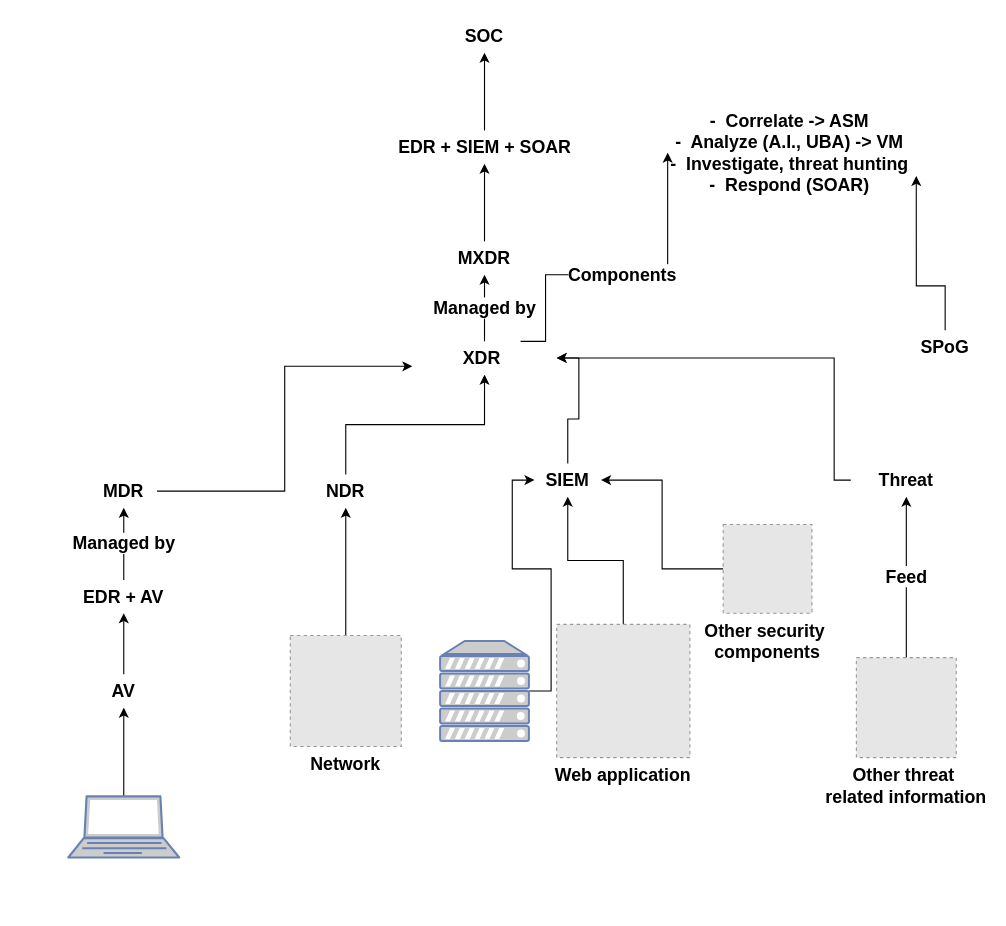
Some shapes in this 1006 by 926 pixel diagram are drawn without their labels. Grey dashed boxes stand in for pictures. The shapes that lost their labels are listed below. From the top down, each one's centre as x and y in pixels, then its label:
At [483,690]: "Database".
At [123,826]: "Endpoints (desktops, laptops, etc,.)".
